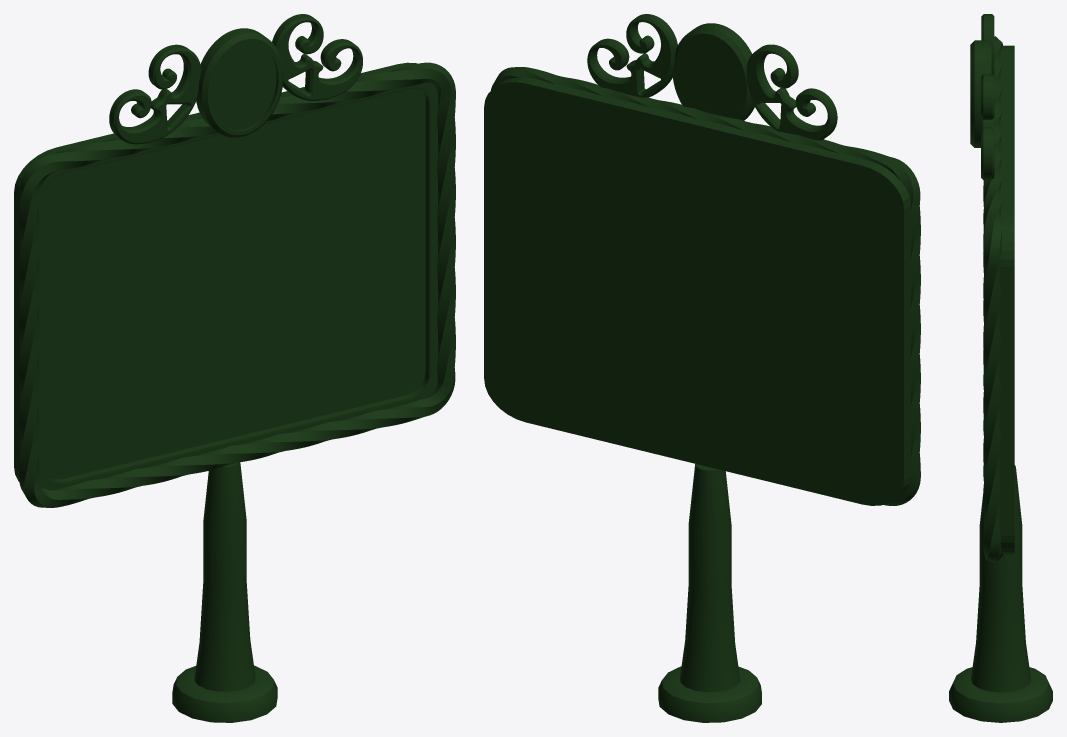
Rendered from ModeloCartel.fbx.
The picture shows the model from 3 angles, left to right: view 1: azimuth 30°, elevation 25°; view 2: azimuth 150°, elevation 25°; view 3: azimuth 270°, elevation 25°; orthographic projection. The views are drawn at different scales.
Parts seen in each view (by area): view 1: Cube, Connect, Base, Escudo, Firulete_2, Firulete; view 2: Cube, Base, Connect, Escudo, Firulete_2, Firulete; view 3: Base, Connect, Cube, Escudo, Firulete, Firulete_2.
Boxes of the visible parts, bbox=[...] form: Cube: bbox=[14, 62, 438, 490]; Connect: bbox=[19, 62, 455, 507]; Base: bbox=[172, 462, 277, 722]; Escudo: bbox=[196, 28, 283, 137]; Firulete_2: bbox=[109, 44, 201, 144]; Firulete: bbox=[272, 14, 362, 101]; Cube: bbox=[484, 77, 911, 505]; Base: bbox=[658, 464, 761, 722]; Connect: bbox=[491, 67, 920, 505]; Escudo: bbox=[672, 23, 754, 120]; Firulete_2: bbox=[746, 44, 837, 140]; Firulete: bbox=[587, 14, 677, 97]; Base: bbox=[949, 465, 1052, 722]; Connect: bbox=[983, 36, 1002, 562]; Cube: bbox=[999, 45, 1014, 554]; Escudo: bbox=[970, 40, 991, 147]; Firulete: bbox=[981, 74, 994, 180]; Firulete_2: bbox=[981, 14, 994, 75].
Size of the model in its own units: 58.28 by 86.68 by 12.36.
